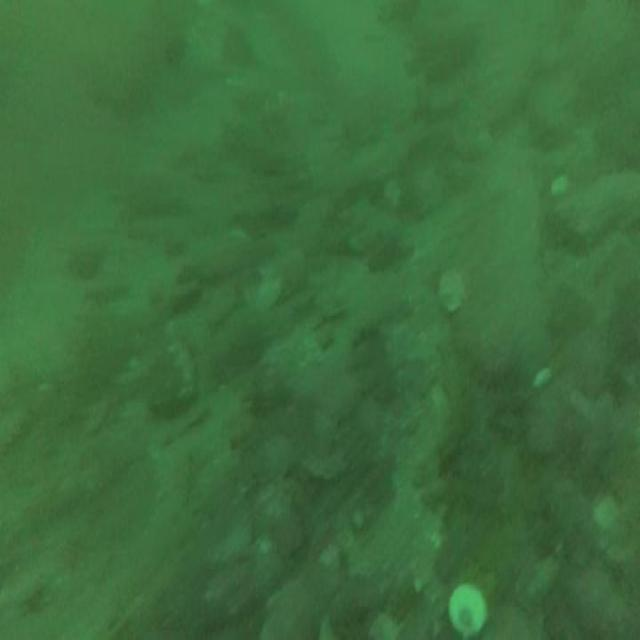holothurian: (460, 351, 521, 387)
scallop: (447, 570, 487, 640), (437, 261, 468, 324)
